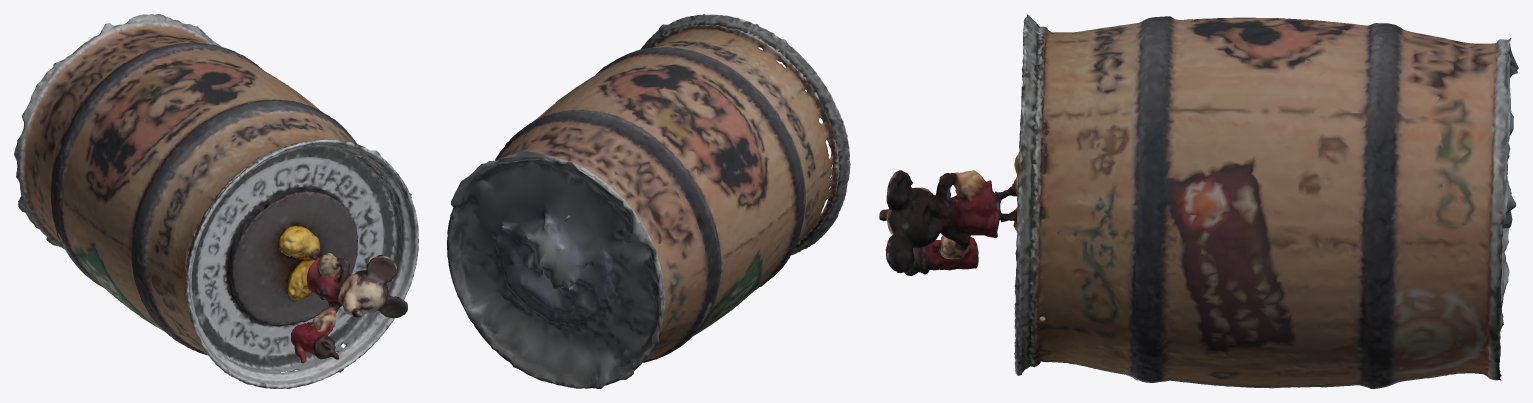
The picture shows the model from 3 angles, left to right: view 1: azimuth 30°, elevation 25°; view 2: azimuth 150°, elevation 25°; view 3: azimuth 270°, elevation 25°; orthographic projection. The views are drawn at different scales.
Parts seen in each view (by area): view 1: Mesh_0_Part_0; view 2: Mesh_0_Part_0; view 3: Mesh_0_Part_0.
Part boxes in pixels (box(x1,y1,x2,y2)): Mesh_0_Part_0: box(14, 14, 418, 388); Mesh_0_Part_0: box(447, 14, 850, 388); Mesh_0_Part_0: box(879, 14, 1518, 388).
Size of the model in its own units: 3.39 by 3.41 by 5.87.
